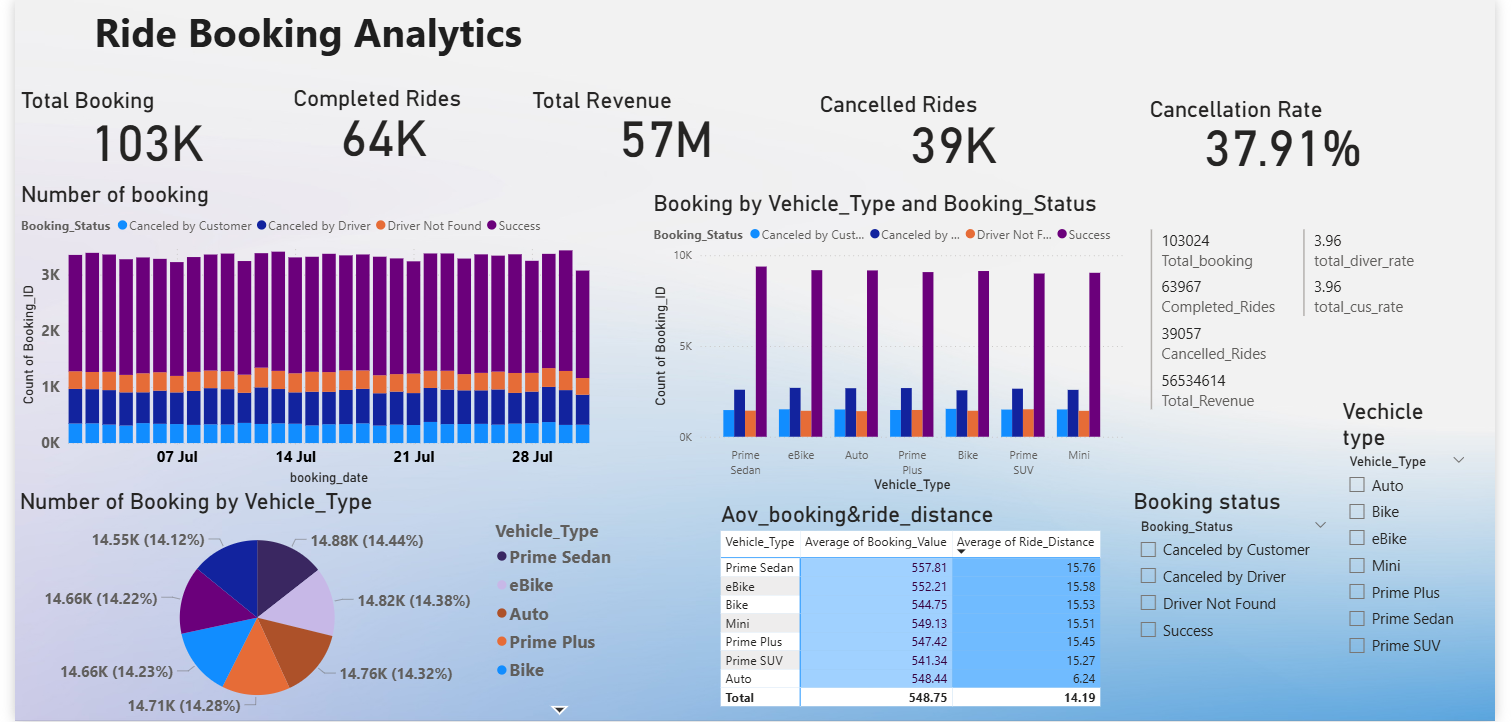

The dashboard page shown, as its layout file describes it:
{"tool":"powerbi","page":{"name":"Page 1","canvas":[1600,780],"ordinal":0},"visuals":[{"type":"columnChart","title":"Number of booking","fields":{"Category":["bookings_july (2).booking_date"],"Series":["bookings_july (2).Booking_Status"],"Y":["CountNonNull(bookings_july (2).Booking_ID)"]},"box":[1.7,195.5,639.8,332.8],"z":0},{"type":"pieChart","title":"Number of Booking by Vehicle_Type","fields":{"Y":["CountNonNull(bookings_july (2).Booking_ID)"],"Category":["bookings_july (2).Vehicle_Type"]},"box":[0,527.8,661.1,251.9],"z":1000},{"type":"pivotTable","title":"Aov_booking&ride_distance","fields":{"Rows":["bookings_july (2).Vehicle_Type"],"Values":["Avg(bookings_july (2).Booking_Value)","Avg(bookings_july (2).Ride_Distance)"]},"box":[758.2,542,446,238.4],"z":2000},{"type":"clusteredColumnChart","title":" Booking  by Vehicle_Type and Booking_Status","fields":{"Category":["bookings_july (2).Vehicle_Type"],"Series":["bookings_july (2).Booking_Status"],"Y":["Count(bookings_july (2).Booking_ID)"]},"box":[685.2,205.6,518.5,331.5],"z":3000},{"type":"card","title":"Total Booking","fields":{"Values":["bookings_july (2).Total_booking"]},"box":[1.4,94.6,282.4,102.7],"z":4000},{"type":"card","title":"Completed Rides","fields":{"Values":["bookings_july (2).Completed_Rides"]},"box":[295.9,91.9,205.4,95.9],"z":5000},{"type":"card","title":"Total Revenue","fields":{"Values":["bookings_july (2).Total_Revenue"]},"box":[553.7,94.4,298.1,92.6],"z":6000},{"type":"card","title":"Cancelled Rides","fields":{"Values":["bookings_july (2).Cancelled_Rides"]},"box":[864.8,98.1,300,98.1],"z":7000},{"type":"card","title":"Cancellation Rate","fields":{"Values":["bookings_july (2).Cancellation_Rate"]},"box":[1222.2,103.7,298.1,92.6],"z":8000},{"type":"multiRowCard","fields":{"Values":["bookings_july (2).Total_booking","bookings_july (2).Completed_Rides","bookings_july (2).Cancelled_Rides","bookings_july (2).Total_Revenue"]},"box":[1223,243.6,226.4,235],"z":9000},{"type":"slicer","title":"Booking  status","fields":{"Values":["bookings_july (2).Booking_Status"]},"box":[1204.1,528.3,226.4,185.2],"z":10000},{"type":"slicer","title":"Vechicle type","fields":{"Values":["bookings_july (2).Vehicle_Type"]},"box":[1429.6,431.5,150,313],"z":11000},{"type":"multiRowCard","fields":{"Values":["bookings_july (2).total_diver_rate","bookings_july (2).total_cus_rate"]},"box":[1387.7,243.6,193.8,145.8],"z":12000},{"type":"textbox","box":[16.2,0,601.4,73],"z":13000}]}

Visuals, with their boxes in screenshot pixels (x1, y1, x2, y2), scaled from the page's 1600x780 canvas onto the 1512x722 screenshot:
"Number of booking" columnChart: detection(2, 181, 606, 489)
"Number of Booking by Vehicle_Type" pieChart: detection(0, 489, 625, 721)
"Aov_booking&ride_distance" pivotTable: detection(716, 502, 1138, 721)
" Booking  by Vehicle_Type and Booking_Status" clusteredColumnChart: detection(648, 190, 1137, 497)
"Total Booking" card: detection(1, 88, 268, 183)
"Completed Rides" card: detection(280, 85, 474, 174)
"Total Revenue" card: detection(523, 87, 805, 173)
"Cancelled Rides" card: detection(817, 91, 1101, 182)
"Cancellation Rate" card: detection(1155, 96, 1437, 182)
multiRowCard - bookings_july (2).Total_booking x bookings_july (2).Completed_Rides: detection(1156, 225, 1370, 443)
"Booking  status" slicer: detection(1138, 489, 1352, 660)
"Vechicle type" slicer: detection(1351, 399, 1493, 689)
multiRowCard - bookings_july (2).total_diver_rate x bookings_july (2).total_cus_rate: detection(1311, 225, 1495, 360)
textbox: detection(15, 0, 584, 68)
